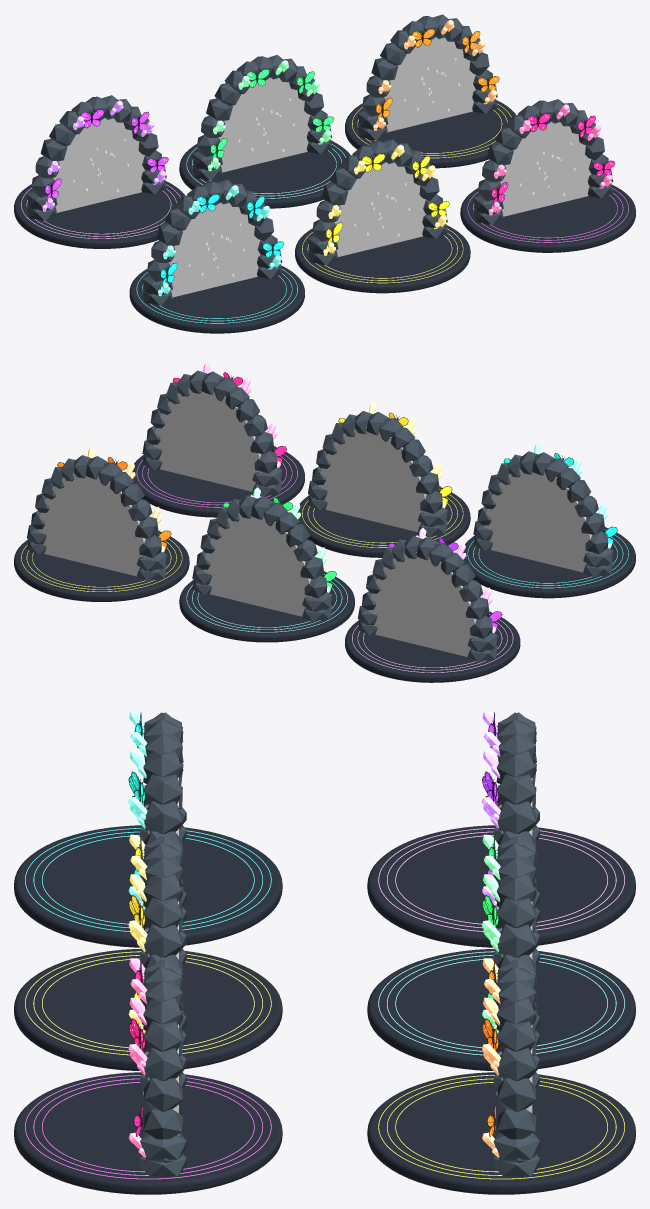
File: Portals6.fbx
3 renders of one model, top to bottom at view 1: azimuth 30°, elevation 25°; view 2: azimuth 150°, elevation 25°; view 3: azimuth 270°, elevation 25°, orthographic. The views are drawn at different scales.
Visible parts, largest first — view 1: Golden Yellow | Carved circular altar, Turquoise | Carved circular altar, Hot Pink | Carved circular altar, Violet | Carved circular altar, Golden Yellow | Portal aperture, Violet | Portal aperture, Orange | Portal aperture, Turquoise | Portal aperture, Emerald | Portal aperture, Hot Pink | Portal aperture, Emerald | Carved circular altar, Orange | Carved circular altar; view 2: Turquoise | Portal aperture, Hot Pink | Portal aperture, Golden Yellow | Portal aperture, Orange | Portal aperture, Emerald | Portal aperture, Violet | Portal aperture, Emerald | Carved circular altar, Violet | Carved circular altar, Orange | Carved circular altar, Turquoise | Carved circular altar, Golden Yellow | Carved circular altar, Hot Pink | Carved circular altar; view 3: Orange | Carved circular altar, Hot Pink | Carved circular altar, Turquoise | Carved circular altar, Violet | Carved circular altar, Golden Yellow | Carved circular altar, Emerald | Carved circular altar, Hot Pink | Arch stone 02, Orange | Arch stone 02, Turquoise | Arch stone 03, Violet | Arch stone 03, Hot Pink | Arch stone 03, Orange | Arch stone 03 (+28 smaller).
Part boxes in pixels (bbox=[...]): Golden Yellow | Carved circular altar: bbox=[295, 225, 470, 293]; Turquoise | Carved circular altar: bbox=[129, 265, 304, 333]; Hot Pink | Carved circular altar: bbox=[460, 185, 635, 252]; Violet | Carved circular altar: bbox=[14, 181, 184, 248]; Golden Yellow | Portal aperture: bbox=[334, 162, 426, 256]; Violet | Portal aperture: bbox=[53, 118, 144, 212]; Orange | Portal aperture: bbox=[384, 37, 475, 131]; Turquoise | Portal aperture: bbox=[168, 202, 260, 297]; Emerald | Portal aperture: bbox=[218, 77, 310, 172]; Hot Pink | Portal aperture: bbox=[499, 121, 591, 216]; Emerald | Carved circular altar: bbox=[179, 140, 350, 208]; Orange | Carved circular altar: bbox=[345, 100, 515, 168]; Turquoise | Portal aperture: bbox=[484, 468, 592, 572]; Hot Pink | Portal aperture: bbox=[153, 387, 261, 491]; Golden Yellow | Portal aperture: bbox=[318, 427, 427, 531]; Orange | Portal aperture: bbox=[37, 471, 146, 576]; Emerald | Portal aperture: bbox=[203, 512, 311, 616]; Violet | Portal aperture: bbox=[368, 552, 477, 656]; Emerald | Carved circular altar: bbox=[179, 571, 354, 642]; Violet | Carved circular altar: bbox=[345, 611, 520, 682]; Orange | Carved circular altar: bbox=[14, 531, 189, 601]; Turquoise | Carved circular altar: bbox=[463, 527, 635, 598]; Golden Yellow | Carved circular altar: bbox=[297, 487, 470, 557]; Hot Pink | Carved circular altar: bbox=[132, 446, 304, 517]; Orange | Carved circular altar: bbox=[367, 1072, 635, 1194]; Hot Pink | Carved circular altar: bbox=[14, 1072, 282, 1194]; Turquoise | Carved circular altar: bbox=[14, 825, 282, 947]; Violet | Carved circular altar: bbox=[367, 825, 635, 947]; Golden Yellow | Carved circular altar: bbox=[14, 949, 282, 1070]; Emerald | Carved circular altar: bbox=[367, 948, 635, 1070]; Hot Pink | Arch stone 02: bbox=[144, 1078, 182, 1112]; Orange | Arch stone 02: bbox=[497, 1078, 535, 1111]; Turquoise | Arch stone 03: bbox=[144, 801, 182, 833]; Violet | Arch stone 03: bbox=[497, 801, 535, 833]; Hot Pink | Arch stone 03: bbox=[144, 1048, 182, 1080]; Orange | Arch stone 03: bbox=[497, 1048, 535, 1080].
Bounding box in the file's own units: 1810 × 405 × 1320.
